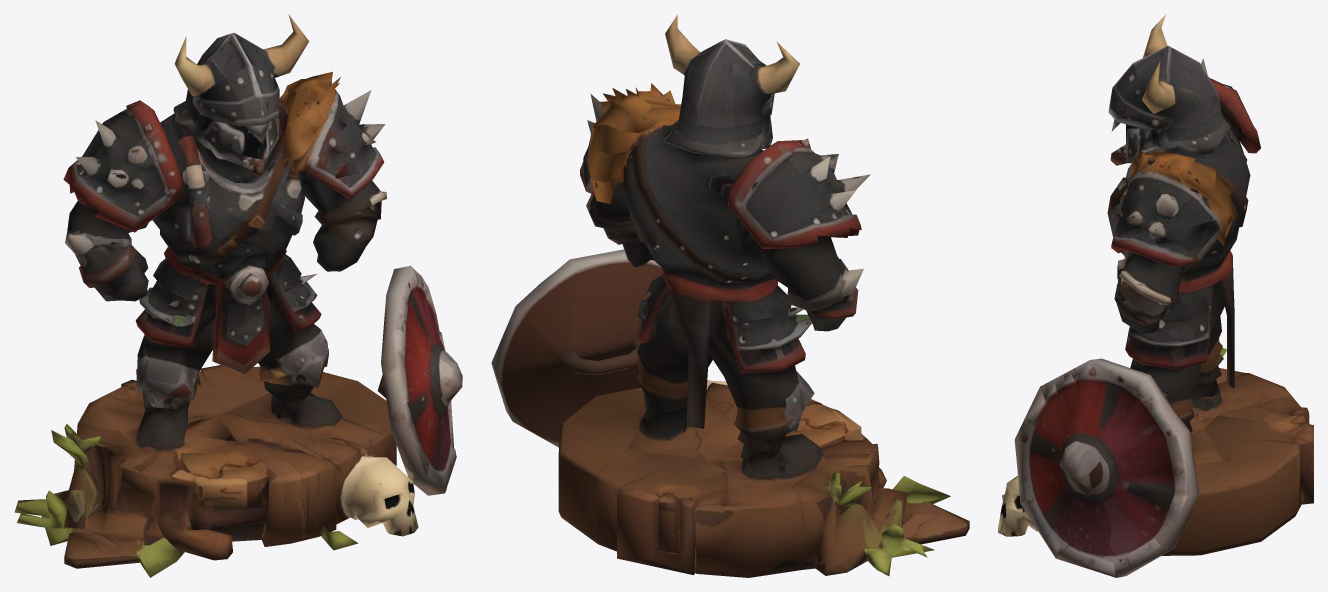
3 renders of one model, left to right at view 1: azimuth 30°, elevation 25°; view 2: azimuth 150°, elevation 25°; view 3: azimuth 270°, elevation 25°, orthographic. The views are drawn at different scales.
Parts seen in each view (by area): view 1: tripo_node_b8603d50-2b2e-45b5-a53e-1a3e2ccdf5d1; view 2: tripo_node_b8603d50-2b2e-45b5-a53e-1a3e2ccdf5d1; view 3: tripo_node_b8603d50-2b2e-45b5-a53e-1a3e2ccdf5d1.
Part boxes in pixels (left/top/right/bottom): tripo_node_b8603d50-2b2e-45b5-a53e-1a3e2ccdf5d1: left=14, top=14, right=462, bottom=577; tripo_node_b8603d50-2b2e-45b5-a53e-1a3e2ccdf5d1: left=491, top=14, right=969, bottom=577; tripo_node_b8603d50-2b2e-45b5-a53e-1a3e2ccdf5d1: left=998, top=14, right=1313, bottom=577.
Size of the model in its own units: 0.9491 by 1 by 0.6321.
Materials: 1 (1 with a texture image).
